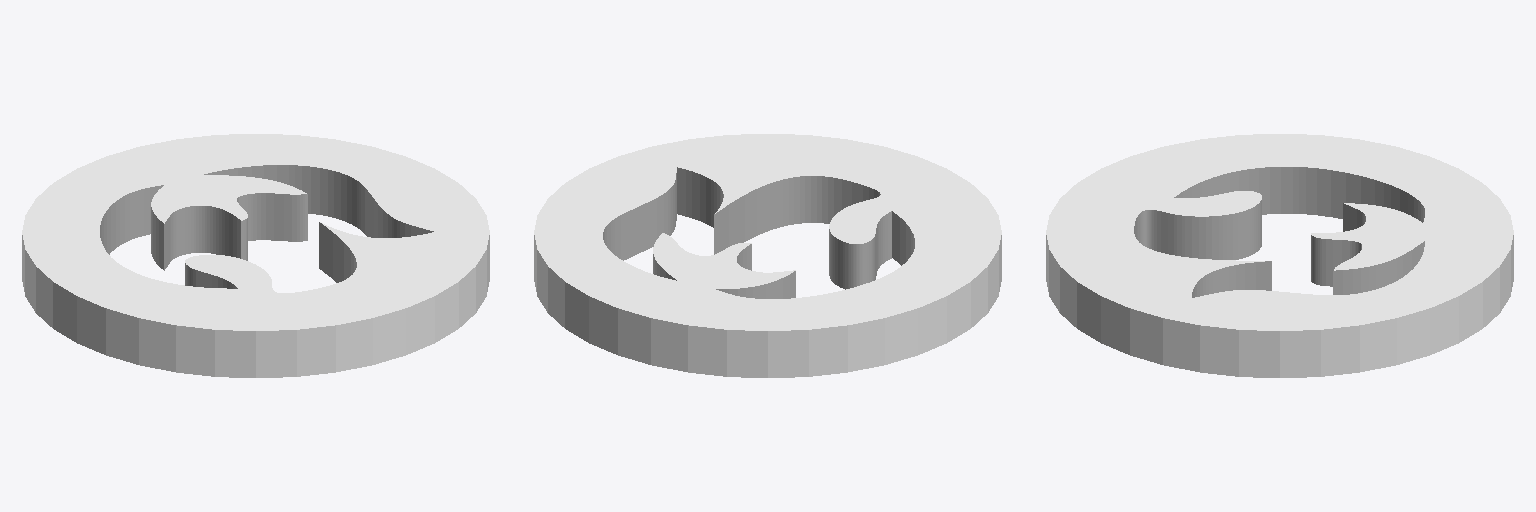
Rendered from flame_coin--hollow--flattened.obj.
3 views of the same model, side by side, from view 1: azimuth 30°, elevation 25°; view 2: azimuth 150°, elevation 25°; view 3: azimuth 270°, elevation 25° (orthographic).
Parts seen in each view (by area): view 1: Flame_Coin; view 2: Flame_Coin; view 3: Flame_Coin.
Boxes of the visible parts, box(x1,y1,x2,y2) form: Flame_Coin: box(22, 134, 489, 377); Flame_Coin: box(534, 134, 1001, 377); Flame_Coin: box(1046, 134, 1513, 377).
Bounding box in the file's own units: 360 × 40 × 360.